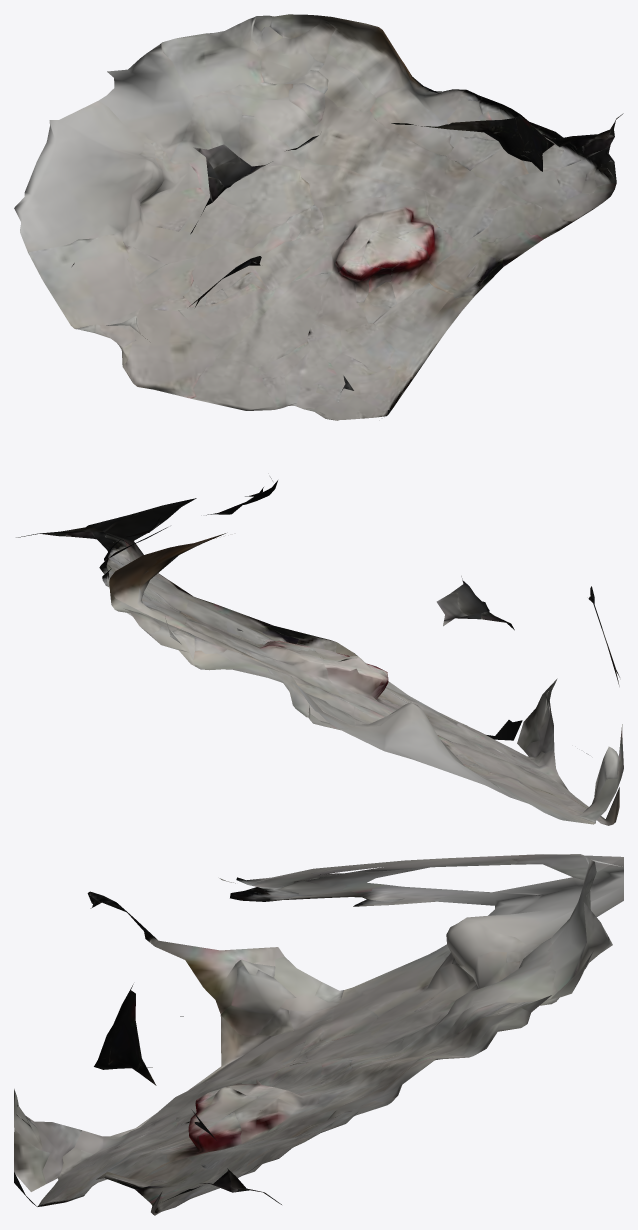
Rendered from hall.glb.
The picture shows the model from 3 angles, top to bottom: view 1: azimuth 30°, elevation 25°; view 2: azimuth 150°, elevation 25°; view 3: azimuth 270°, elevation 25°; orthographic projection. The views are drawn at different scales.
Bounding box in the file's own units: 1.59 × 0.6735 × 1.13.
Materials: 1 (1 with a texture image).
